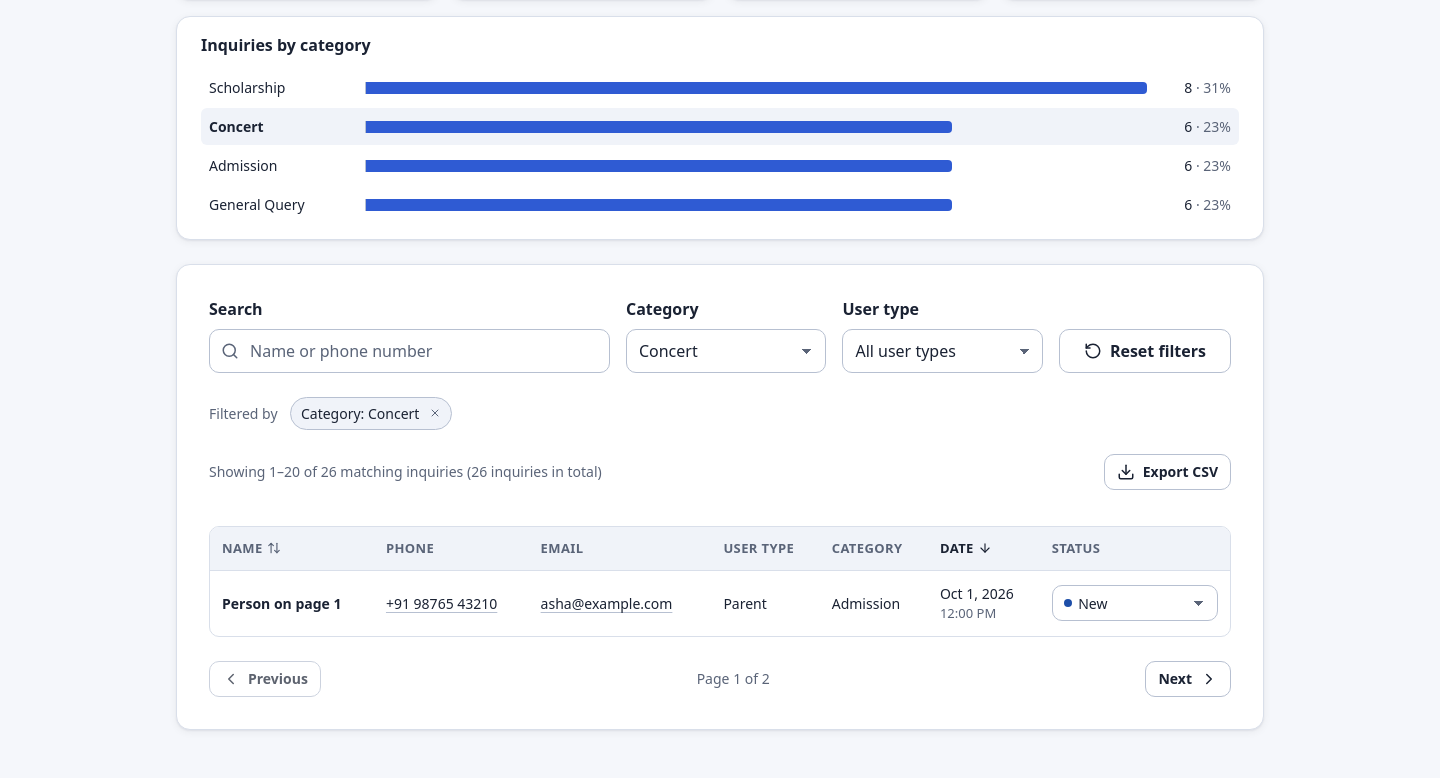
it: pagination › moves between pages and keeps the filters
(page scrolled)
Expected: the table is shown, x1=210 y1=527 x2=1230 y2=636
Expected: the button "Previous" is disabled, x1=209 y1=661 x2=321 y2=697
Click the button "Next" at (1188, 679), box x1=1146 y1=661 x2=1231 y2=697
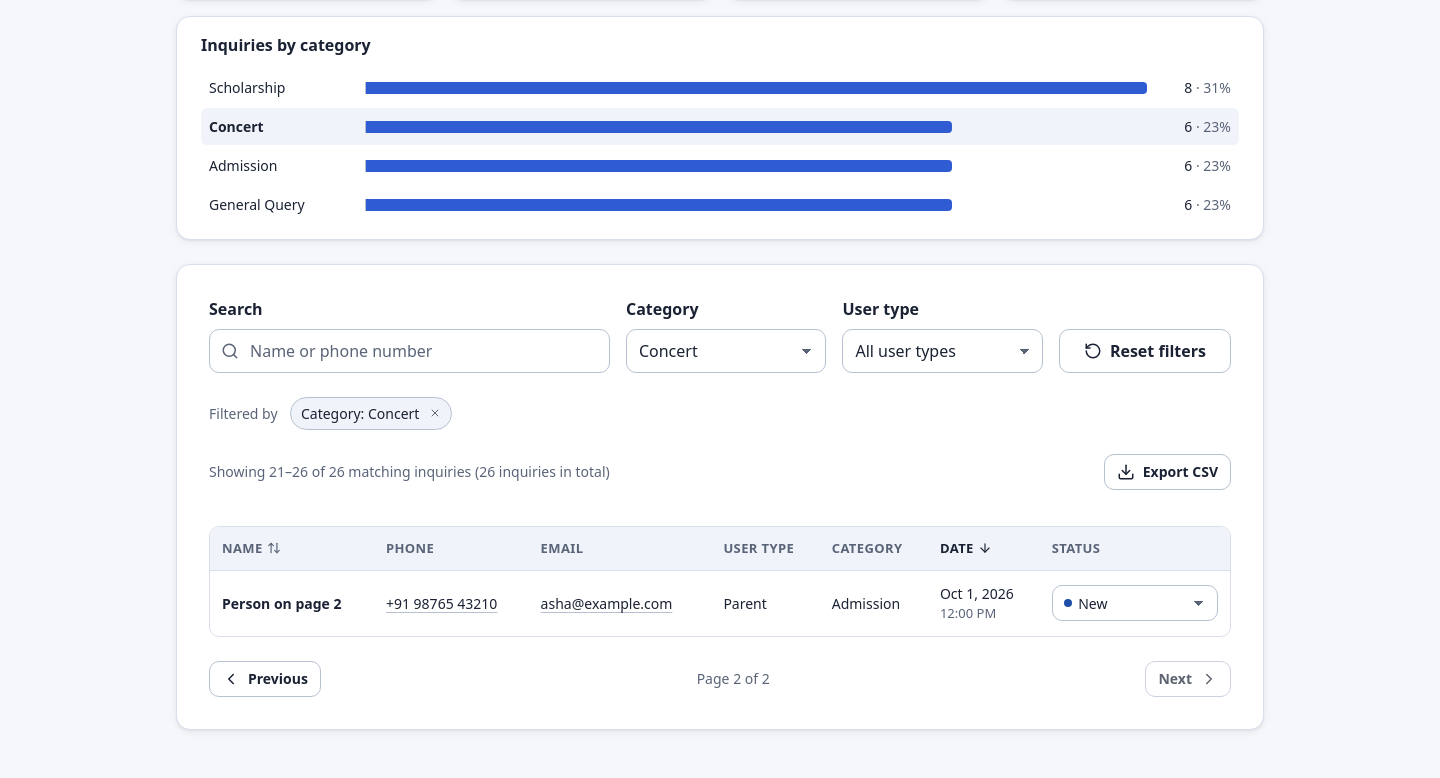
Expected: the column heading "Person on page 2" is shown, x1=210 y1=571 x2=374 y2=636
Expected: the text "Showing 21–26 of 26 matching inquiries (26 inquiries in total)" is shown, x1=209 y1=461 x2=610 y2=482
Expected: the button "Next" is disabled, x1=1146 y1=661 x2=1231 y2=697
Click the button "Previous" at (265, 679), box x1=209 y1=661 x2=321 y2=697
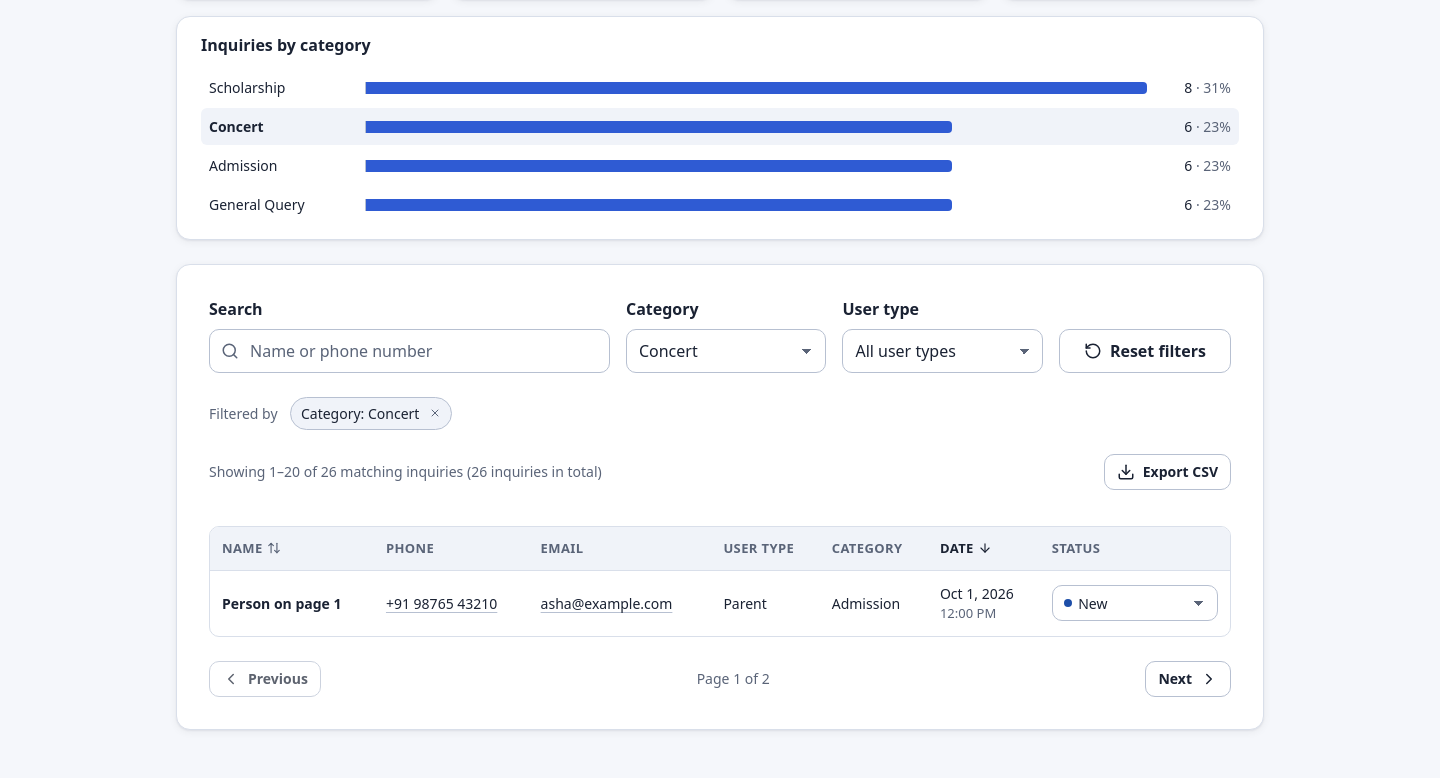
Expected: the column heading "Person on page 1" is shown, x1=210 y1=571 x2=374 y2=636
